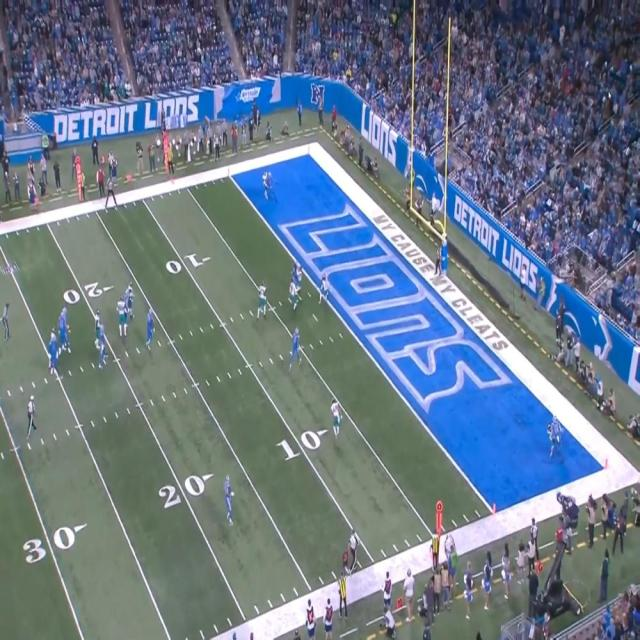db: (546, 421, 556, 458), (259, 278, 268, 318), (261, 170, 270, 204), (322, 273, 328, 302), (297, 262, 304, 284)
lb: (288, 278, 299, 310), (331, 402, 340, 435)
skill: (223, 472, 233, 514), (552, 415, 562, 453), (291, 327, 300, 368), (268, 172, 277, 202), (292, 260, 298, 282)
